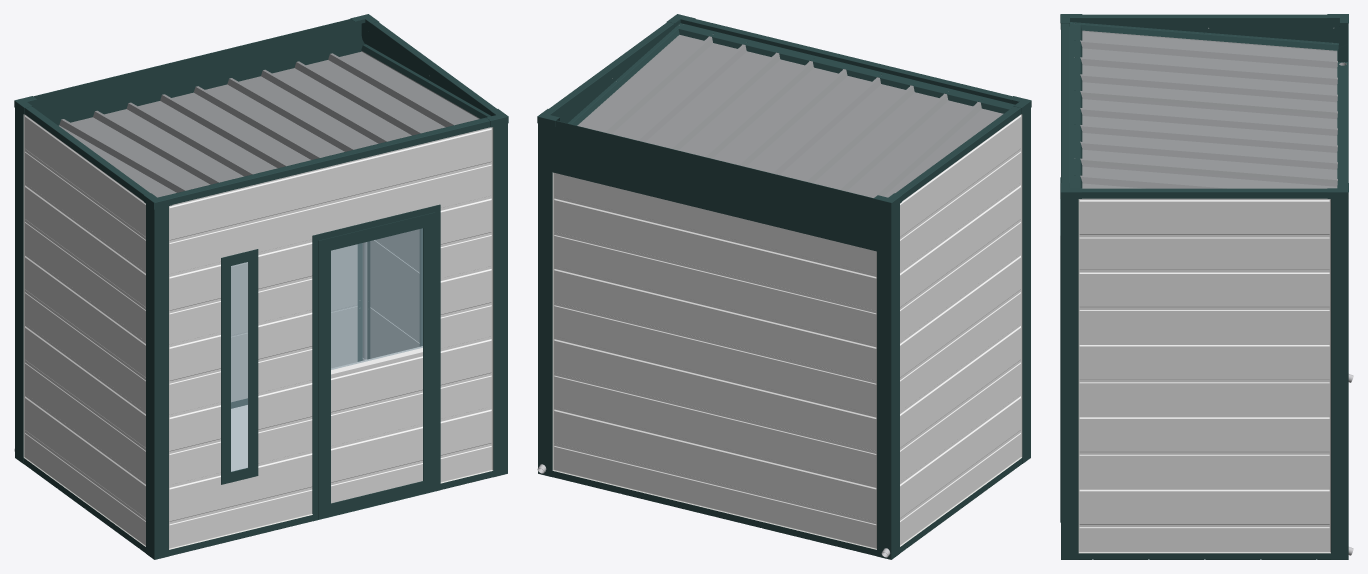
Rendered from sally.glb.
The picture shows the model from 3 angles, left to right: view 1: azimuth 30°, elevation 25°; view 2: azimuth 150°, elevation 25°; view 3: azimuth 270°, elevation 25°; orthographic projection. The views are drawn at different scales.
Parts seen in each view (by area): view 1: Solido1 (×5), pane-window; view 2: Solido1 (×4); view 3: Solido1 (×4).
Part boxes in pixels (bbox=[...]): Solido1 (×5): bbox=[14, 14, 508, 559]; pane-window: bbox=[231, 228, 422, 471]; Solido1 (×4): bbox=[537, 14, 1031, 559]; Solido1 (×4): bbox=[1060, 14, 1348, 559].
Bounding box in the file's own units: 2.64 × 2.54 × 1.84.
